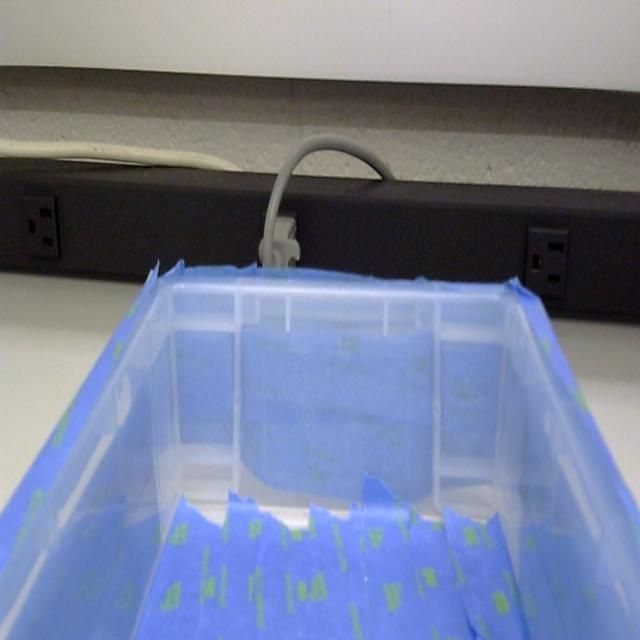bucket: (0, 262, 640, 640)
